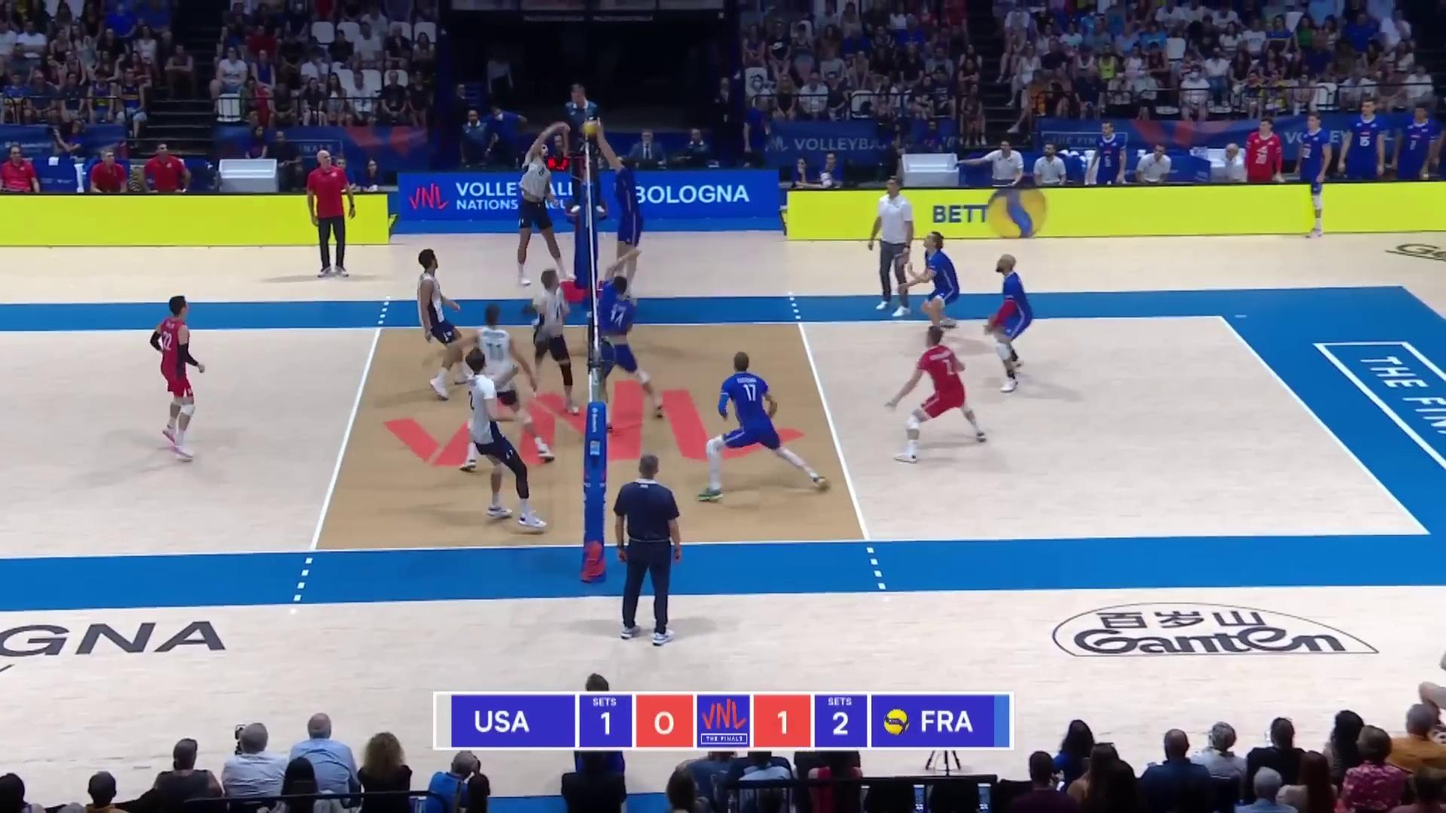player: (697, 352, 823, 500), (453, 306, 557, 470), (462, 349, 548, 533), (891, 326, 991, 459), (599, 269, 668, 425), (592, 121, 642, 310), (151, 298, 207, 454), (416, 252, 475, 399), (517, 135, 575, 284), (526, 267, 576, 413), (905, 234, 965, 343), (985, 259, 1032, 392)
refree: (610, 458, 685, 641), (563, 85, 605, 212)
